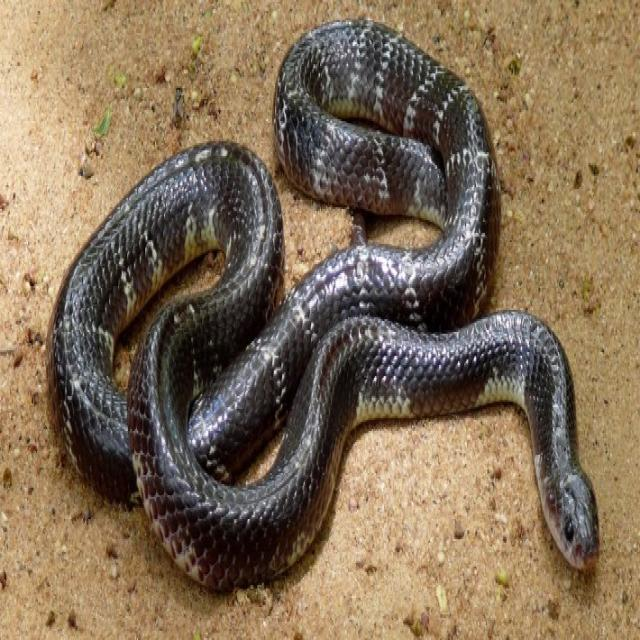Snake: (44, 14, 600, 594)
